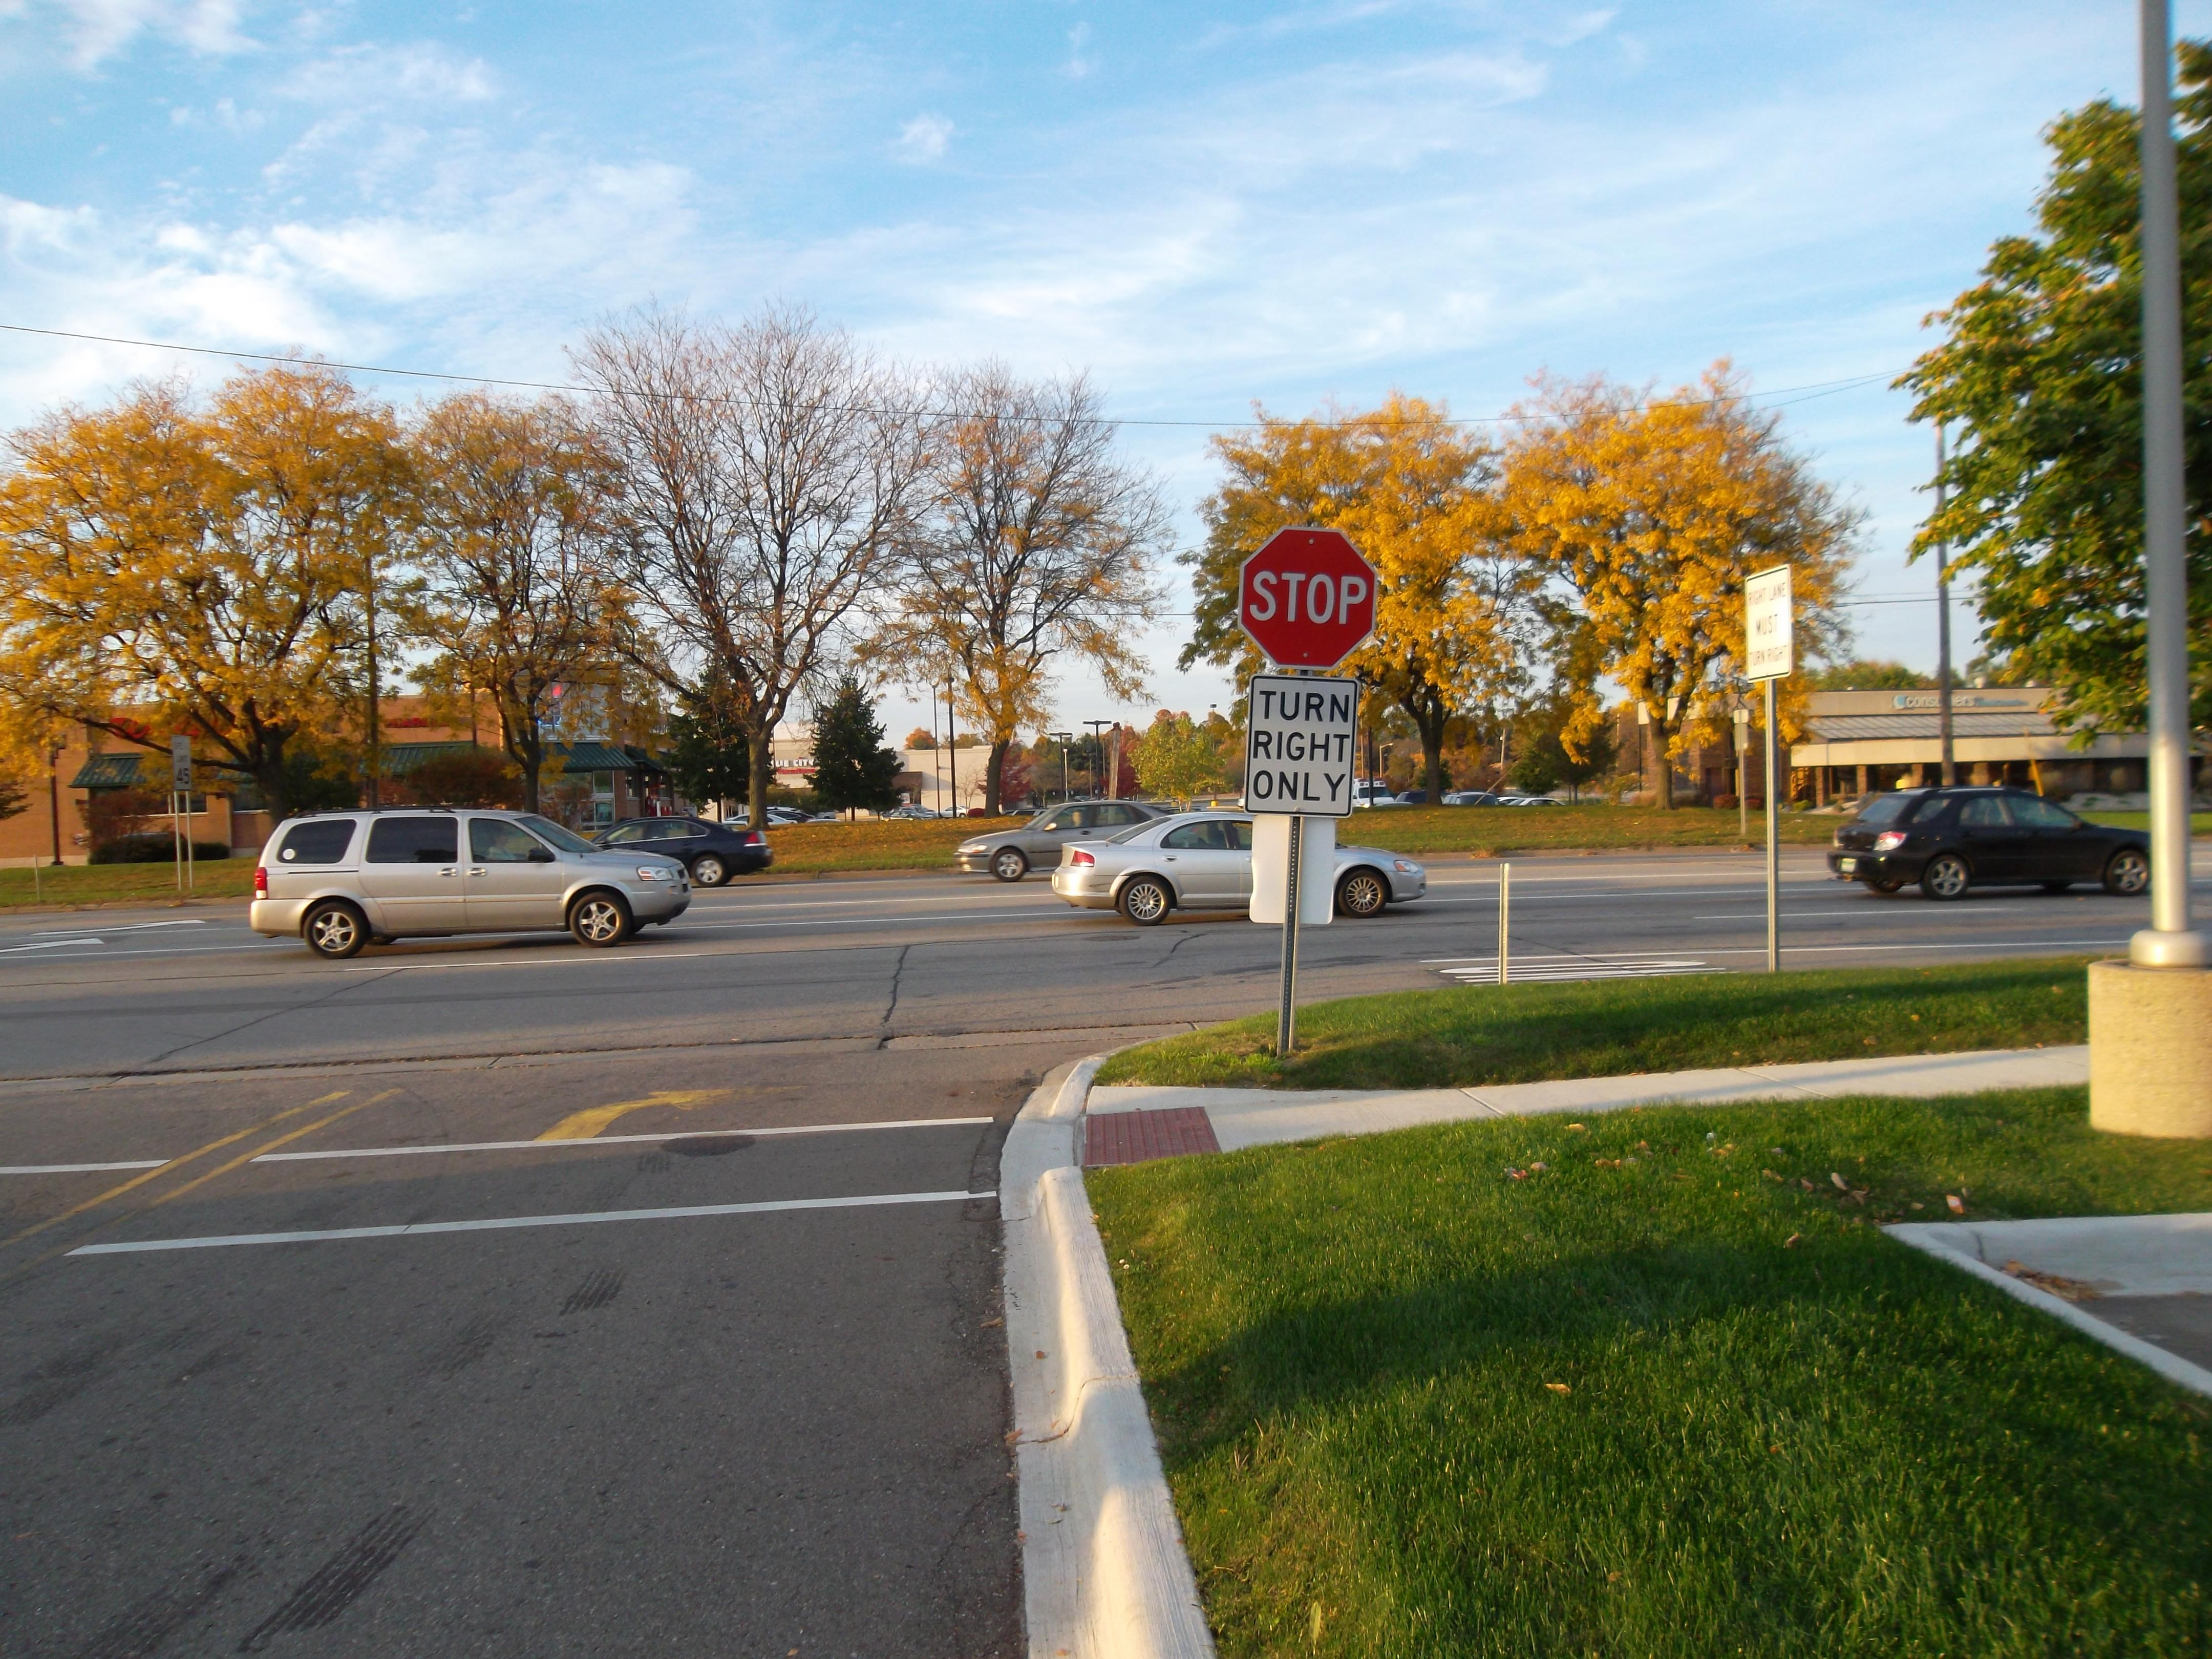regulatory: (1240, 673, 1364, 823)
stop: (1233, 523, 1381, 673)
